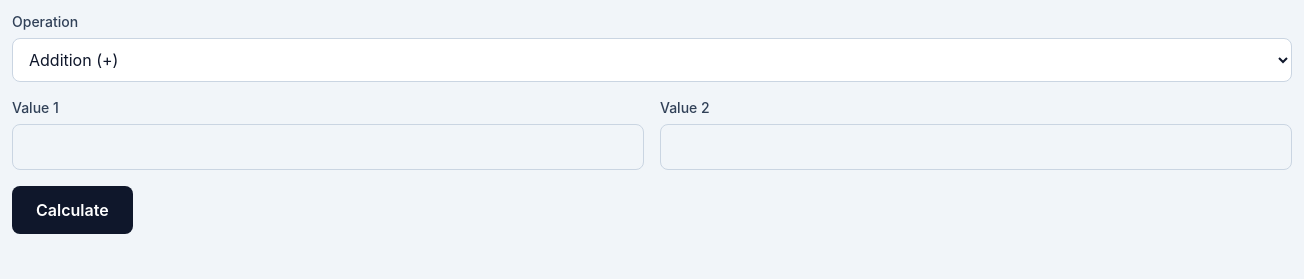
calculation › blocks the request when operands are missing
Expected: the dropdown labelled "Operation" is shown, top-left (12, 38), bottom-right (1292, 82)
Click the button "Calculate".
click(72, 210)  # box top-left (12, 186), bottom-right (133, 234)
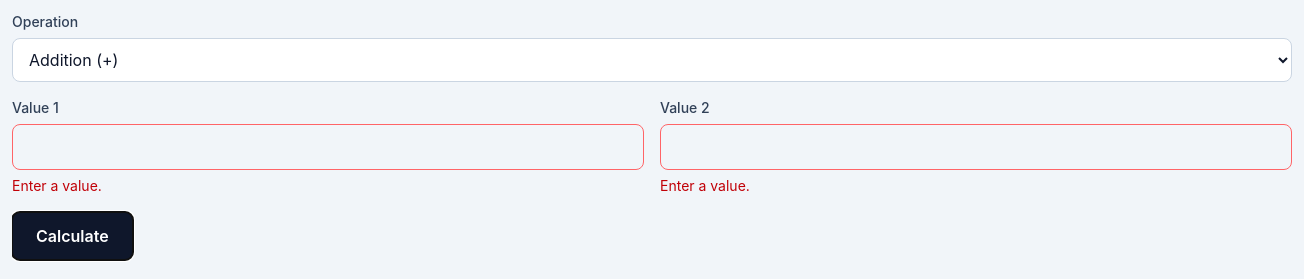
Now the text "Enter a value." is shown 2 times, box top-left (12, 177), bottom-right (102, 194); top-left (660, 177), bottom-right (750, 194)
